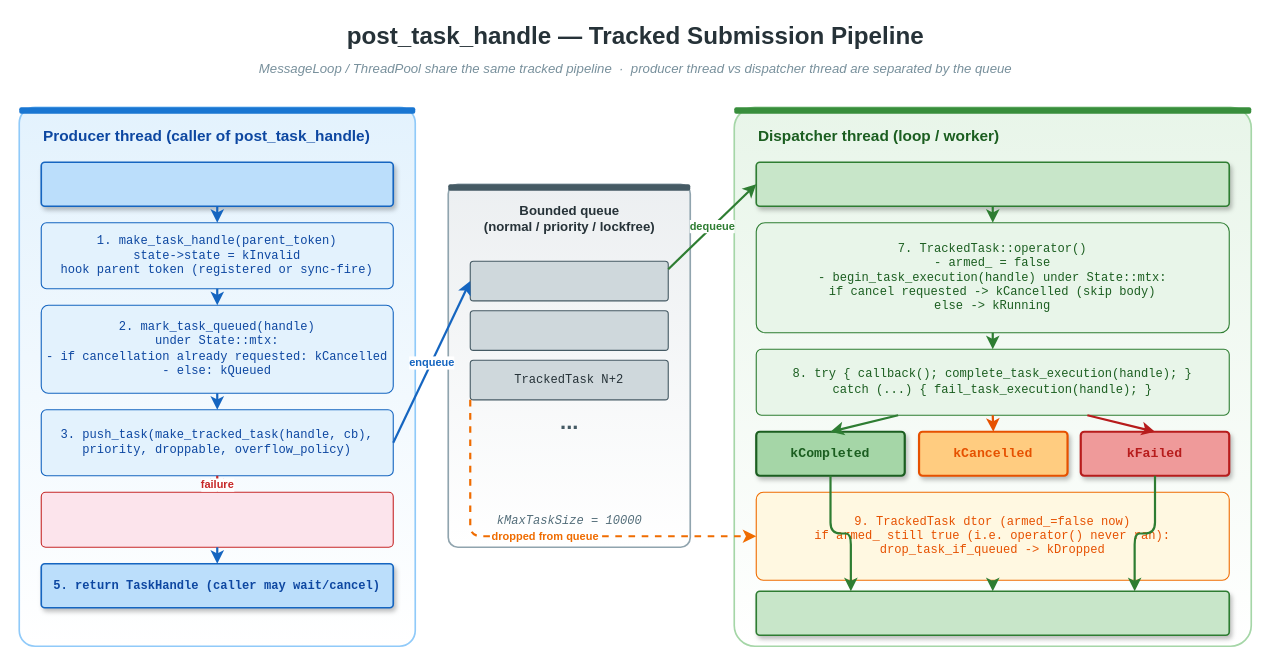
Image size: 1272x666. Some labels were removed from this diagram. The centre of each missing label's shape, as x and y in pixels:
10. State::cv.notify_all() wakes wait() callers: the point at 993,614
4. if push fails && !is_done(): mark_task_rejected(handle) -> kRejected: the point at 216,519
6. dispatch loop pops TrackedTask: the point at 993,185
post_task_handle(callback, options): the point at 218,185
TrackedTask N: the point at 568,280
TrackedTask N+1: the point at 568,330
